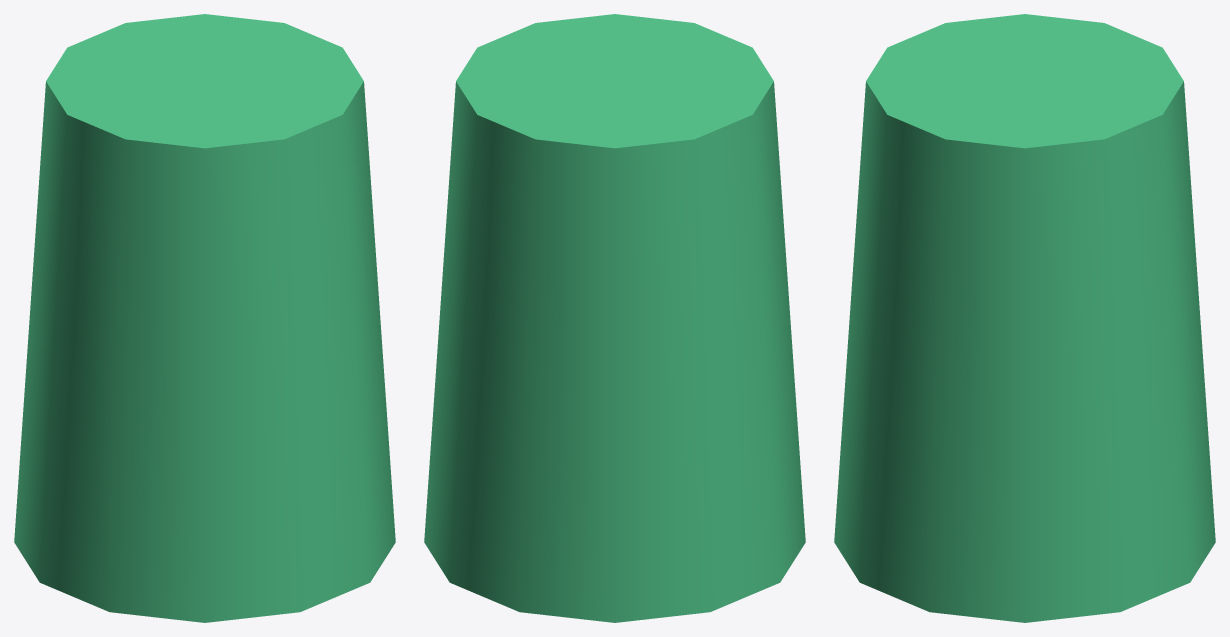
Rendered from aed.glb.
The picture shows the model from 3 angles, left to right: view 1: azimuth 30°, elevation 25°; view 2: azimuth 150°, elevation 25°; view 3: azimuth 270°, elevation 25°; orthographic projection.
Visible parts, largest first — view 1: aed-node; view 2: aed-node; view 3: aed-node.
Part boxes in pixels (<box>): aed-node: <box>14,14,395,622</box>; aed-node: <box>424,14,805,622</box>; aed-node: <box>834,14,1215,622</box>.
Bounding box in the file's own units: 0.6 × 0.8 × 0.6.
